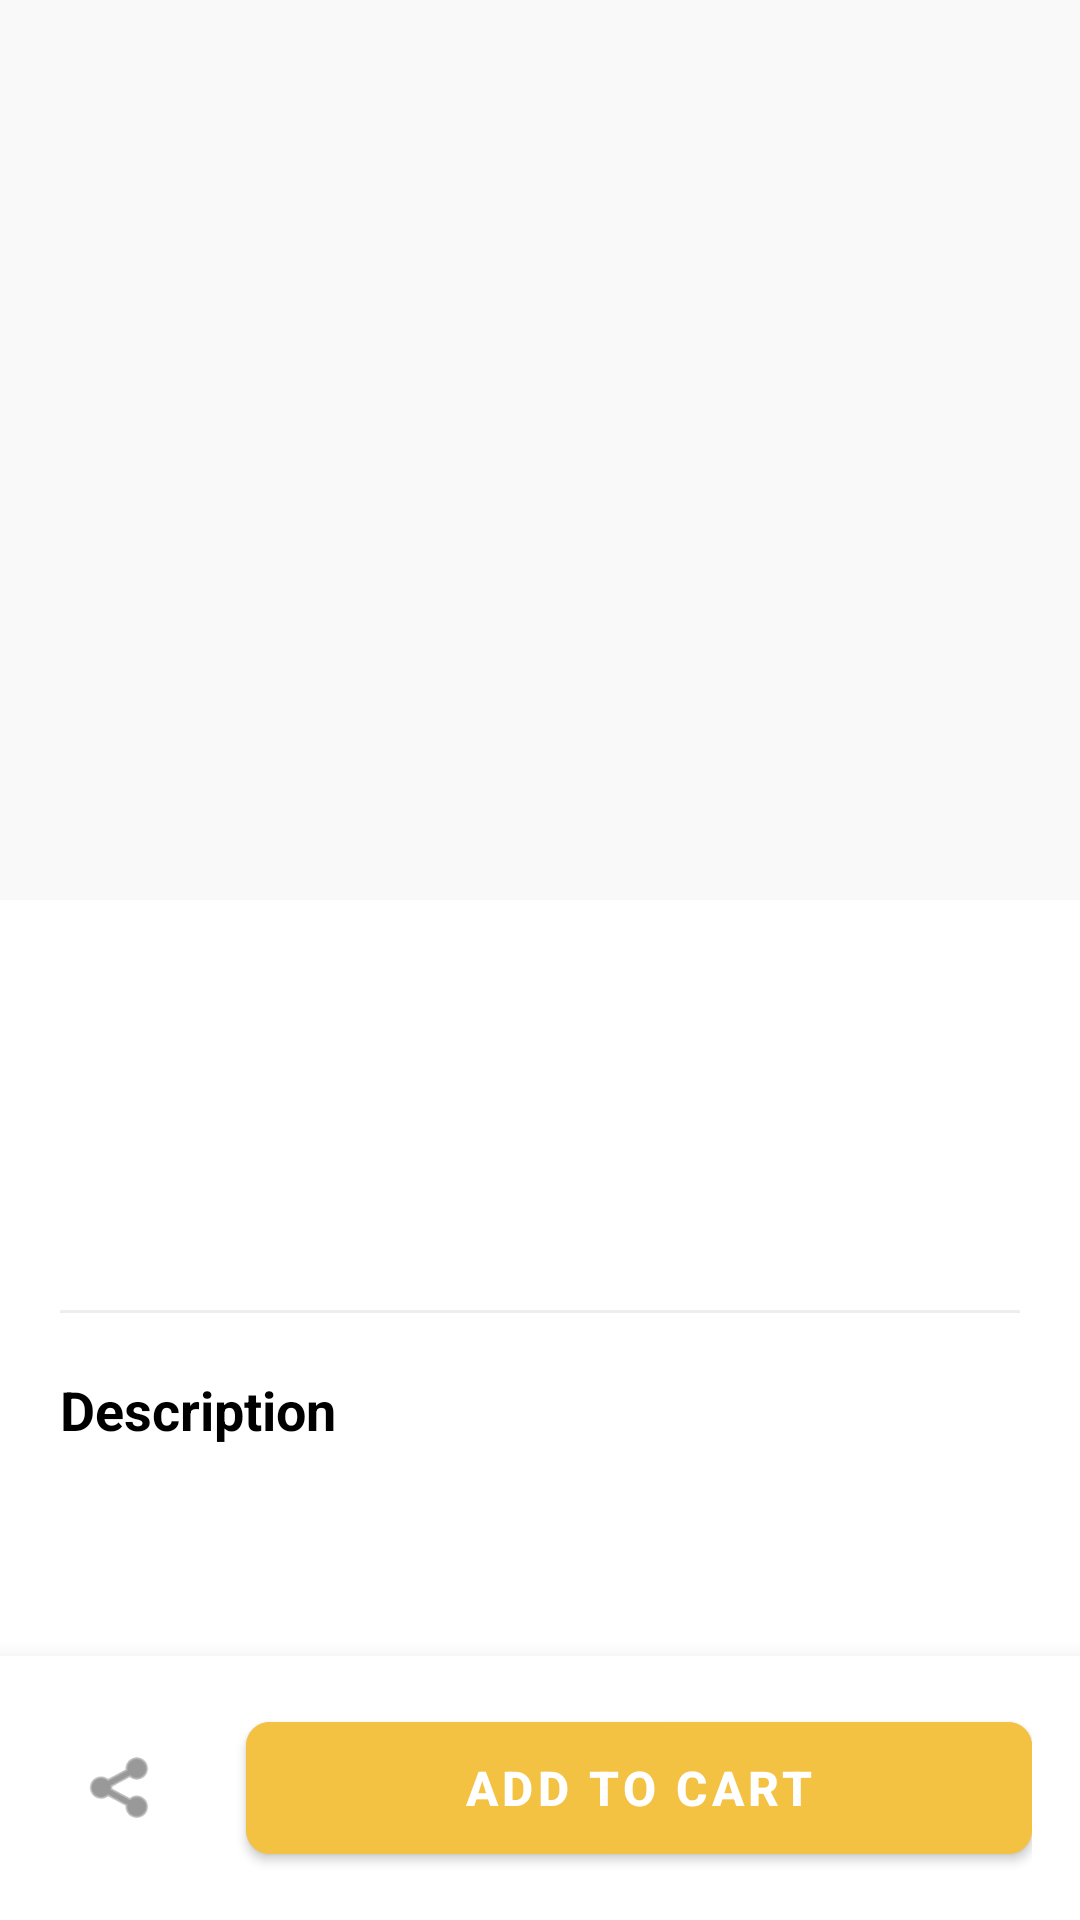

Locate icon controls on the screen. Image size 1080px×1920px, boxes as bbox=[x1, y1, x2, y2].
share: bbox=[90, 1757, 148, 1818]
